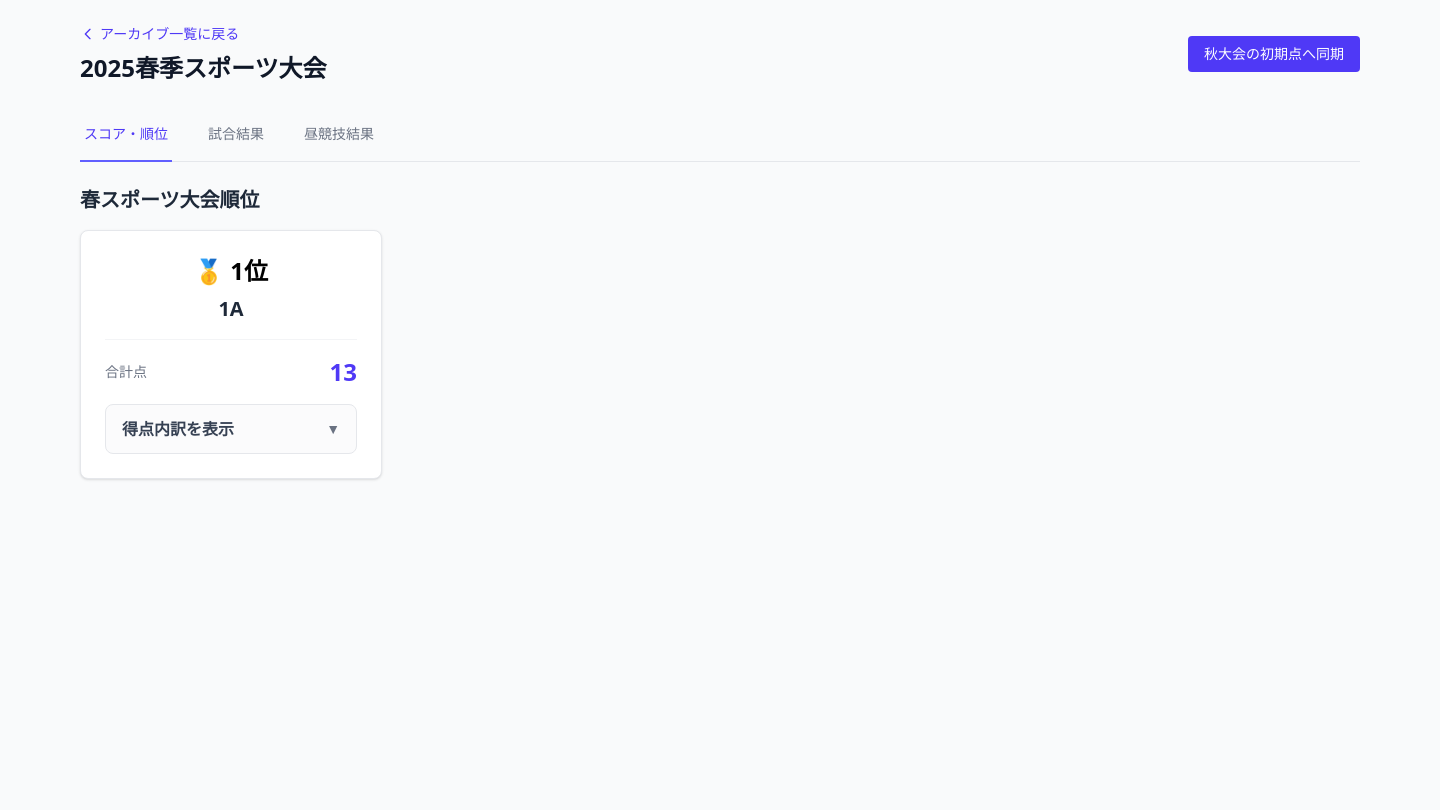
Archive Event Detail Page › スコアカードから得点内訳を表示できること
expect the text "1A" is shown: met, box [218,295,244,322]
Click the text "得点内訳を表示".
click(178, 429)  # box [122,417,234,441]
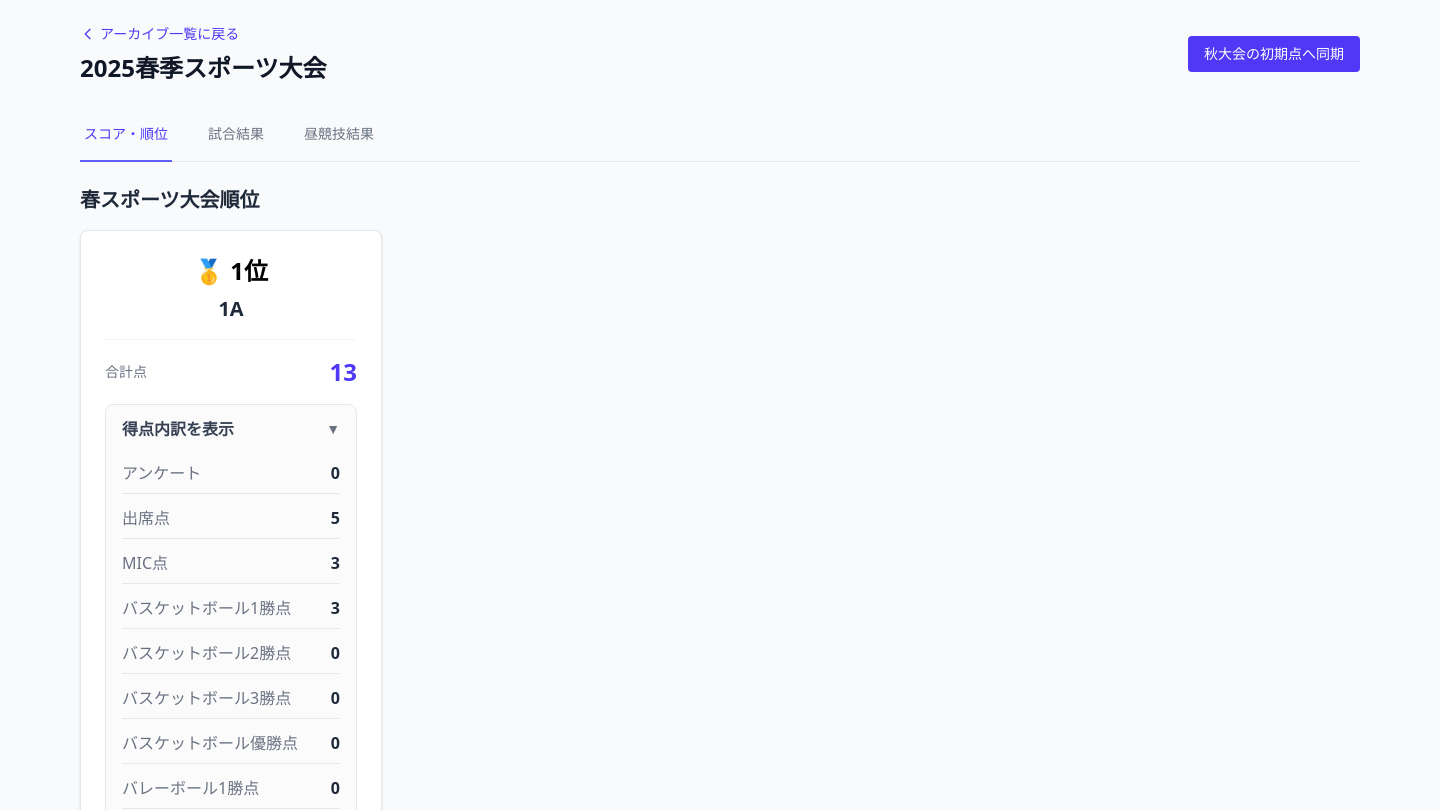
expect the text "出席点" is shown: met, box [122,506,170,530]
expect the text "MIC点" is shown: met, box [122,551,168,575]
expect the text "バスケットボール1勝点" is shown: met, box [122,596,291,620]
